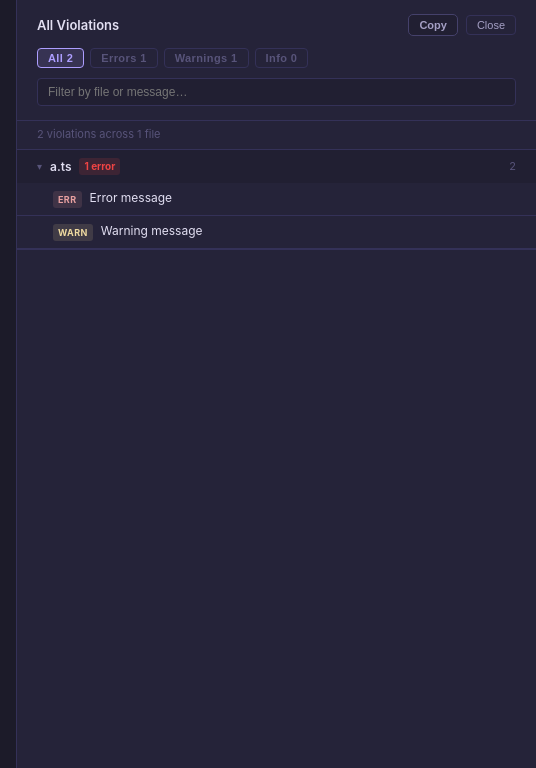
ViolationsPanel › filters to errors-only when Errors button clicked
The width and height of the screenshot is (536, 768).
Click the button "Errors 1": (124, 58) left=90, top=48, right=158, bottom=68
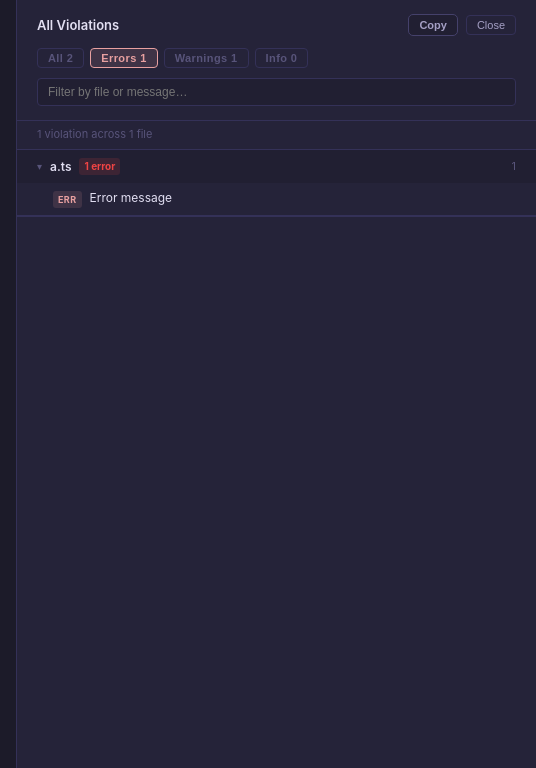
Check: the text "Error message" is shown, box left=90, top=190, right=172, bottom=205
Check: the text "Warning message" is gone
